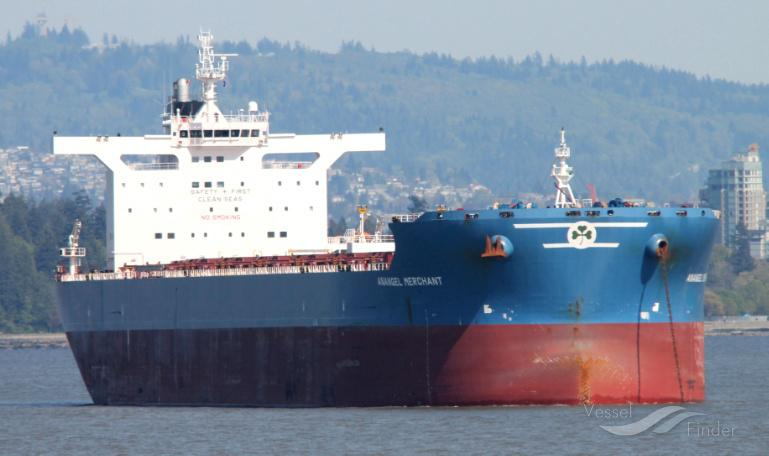OCR: (370, 270, 447, 294)
